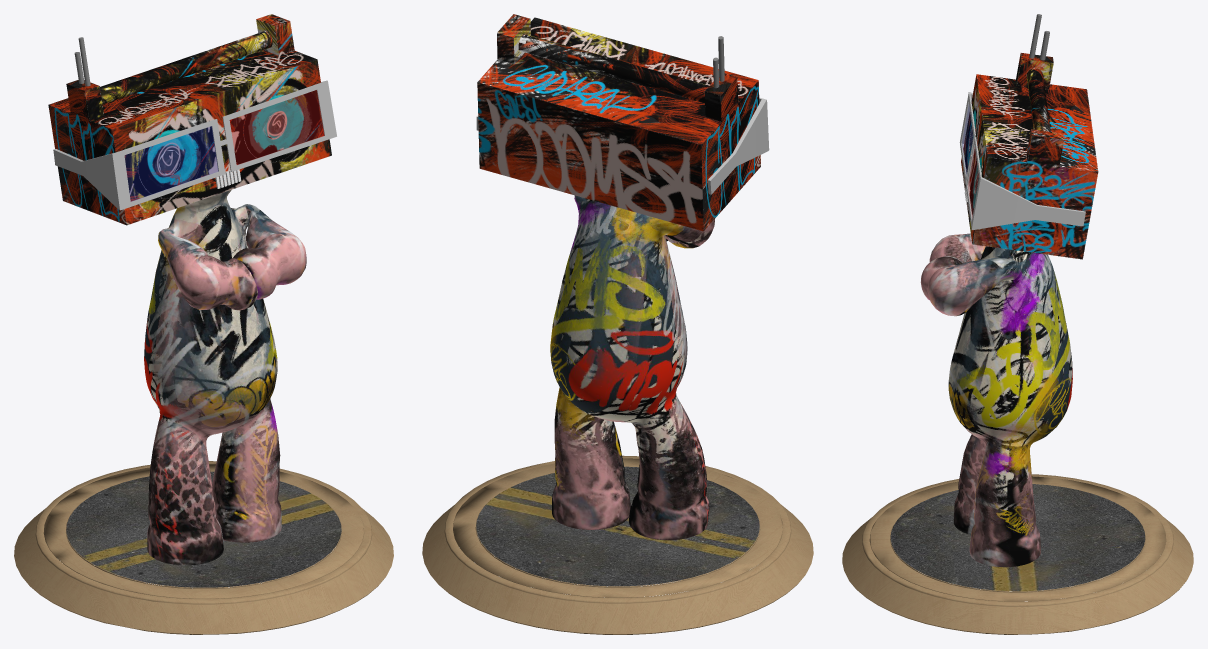
3 renders of one model, left to right at view 1: azimuth 30°, elevation 25°; view 2: azimuth 150°, elevation 25°; view 3: azimuth 270°, elevation 25°, orthographic. The views are drawn at different scales.
Parts seen in each view (by area): view 1: BBody; view 2: BBody; view 3: BBody.
Part boxes in pixels (x1=…): BBody: x1=14, y1=14, x2=393, y2=634; BBody: x1=422, y1=14, x2=813, y2=634; BBody: x1=842, y1=14, x2=1193, y2=634.
Bounding box in the file's own units: 1.45 × 2.25 × 1.45.
Materials: 9 (4 with a texture image).
